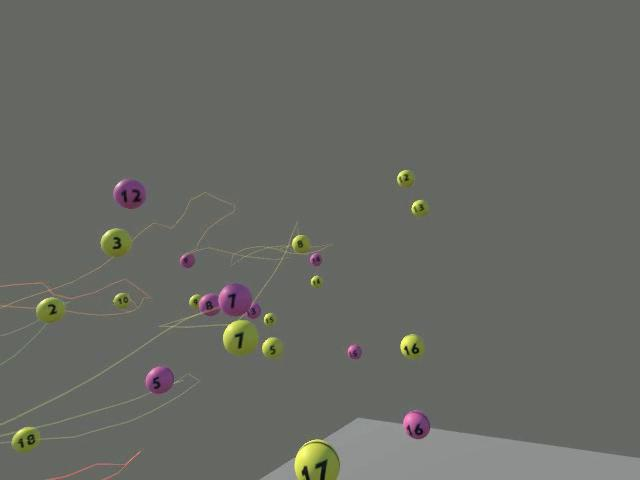ball_02_yellow: (35, 296, 64, 322)
ball_03_yellow: (100, 227, 131, 256)
ball_05_pink: (145, 365, 174, 394)
ball_05_yellow: (261, 336, 282, 358)
ball_07_pink: (218, 282, 251, 316)
ball_07_yellow: (222, 319, 258, 355)
ball_08_pink: (198, 293, 220, 316)
ball_08_yellow: (291, 234, 310, 253)
ball_09_pink: (179, 252, 194, 268)
ball_09_yellow: (188, 293, 200, 308)
ball_10_yellow: (112, 292, 129, 308)
ball_12_pink: (112, 177, 146, 208)
ball_12_yellow: (396, 169, 414, 187)
ball_13_yellow: (410, 199, 428, 216)
ball_14_pink: (309, 252, 322, 266)
ball_14_yellow: (310, 274, 322, 288)
ball_15_pink: (347, 343, 361, 359)
ball_15_yellow: (263, 312, 276, 327)
ball_16_pink: (402, 410, 430, 438)
ball_16_yellow: (399, 333, 424, 358)
ball_17_yellow: (11, 426, 40, 452)
ball_unknown: (293, 439, 339, 479), (246, 301, 261, 318)
